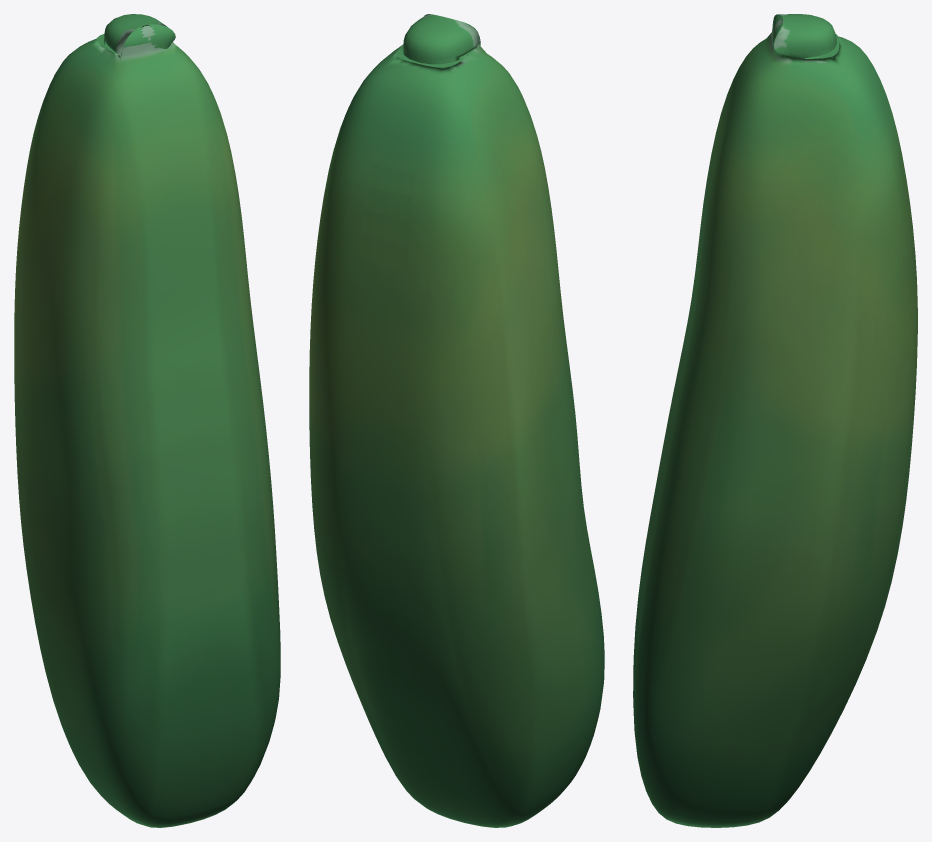
Rendered from zucchini.obj.
3 views of the same model, side by side, from view 1: azimuth 30°, elevation 25°; view 2: azimuth 150°, elevation 25°; view 3: azimuth 270°, elevation 25° (orthographic). The views are drawn at different scales.
Parts seen in each view (by area): view 1: Roundcube; view 2: Roundcube; view 3: Roundcube.
Part boxes in pixels (box(x1,y1,x2,y2)): Roundcube: box(14, 14, 280, 827); Roundcube: box(309, 14, 604, 827); Roundcube: box(633, 14, 917, 827).
Size of the model in its own units: 2.16 by 7.99 by 2.57.
